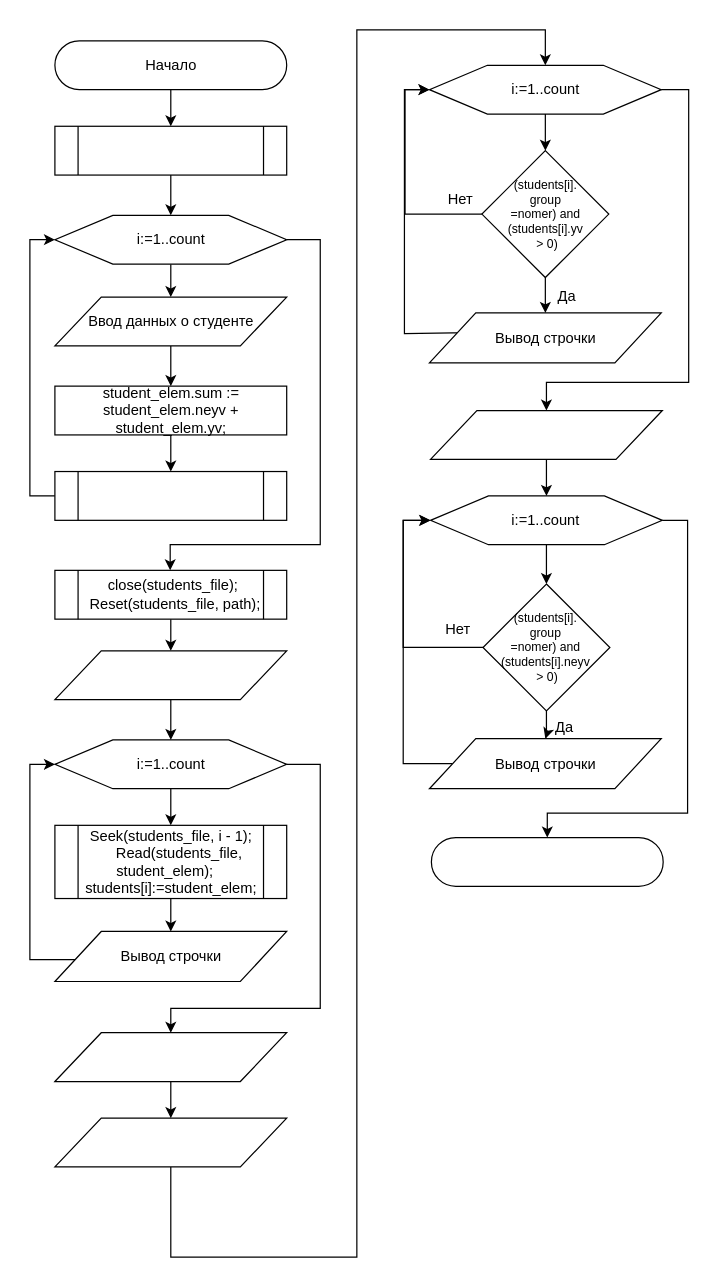
Image size: 720x1288. Some labels were removed from this diagram. The shapes that lost their labels are listed below. From the top down, each one's centre as x and y in pixels, then its label:
the point at 170,150: Assign(students_file, path); ReWrite(students_file);
the point at 545,434: По неуважительной
the point at 170,495: write(students_file, student_elem);
the point at 170,675: Вывод заголовка таблицы
the point at 546,861: Конец
the point at 170,1057: Ввод номера группы
the point at 170,1142: По уважительной
